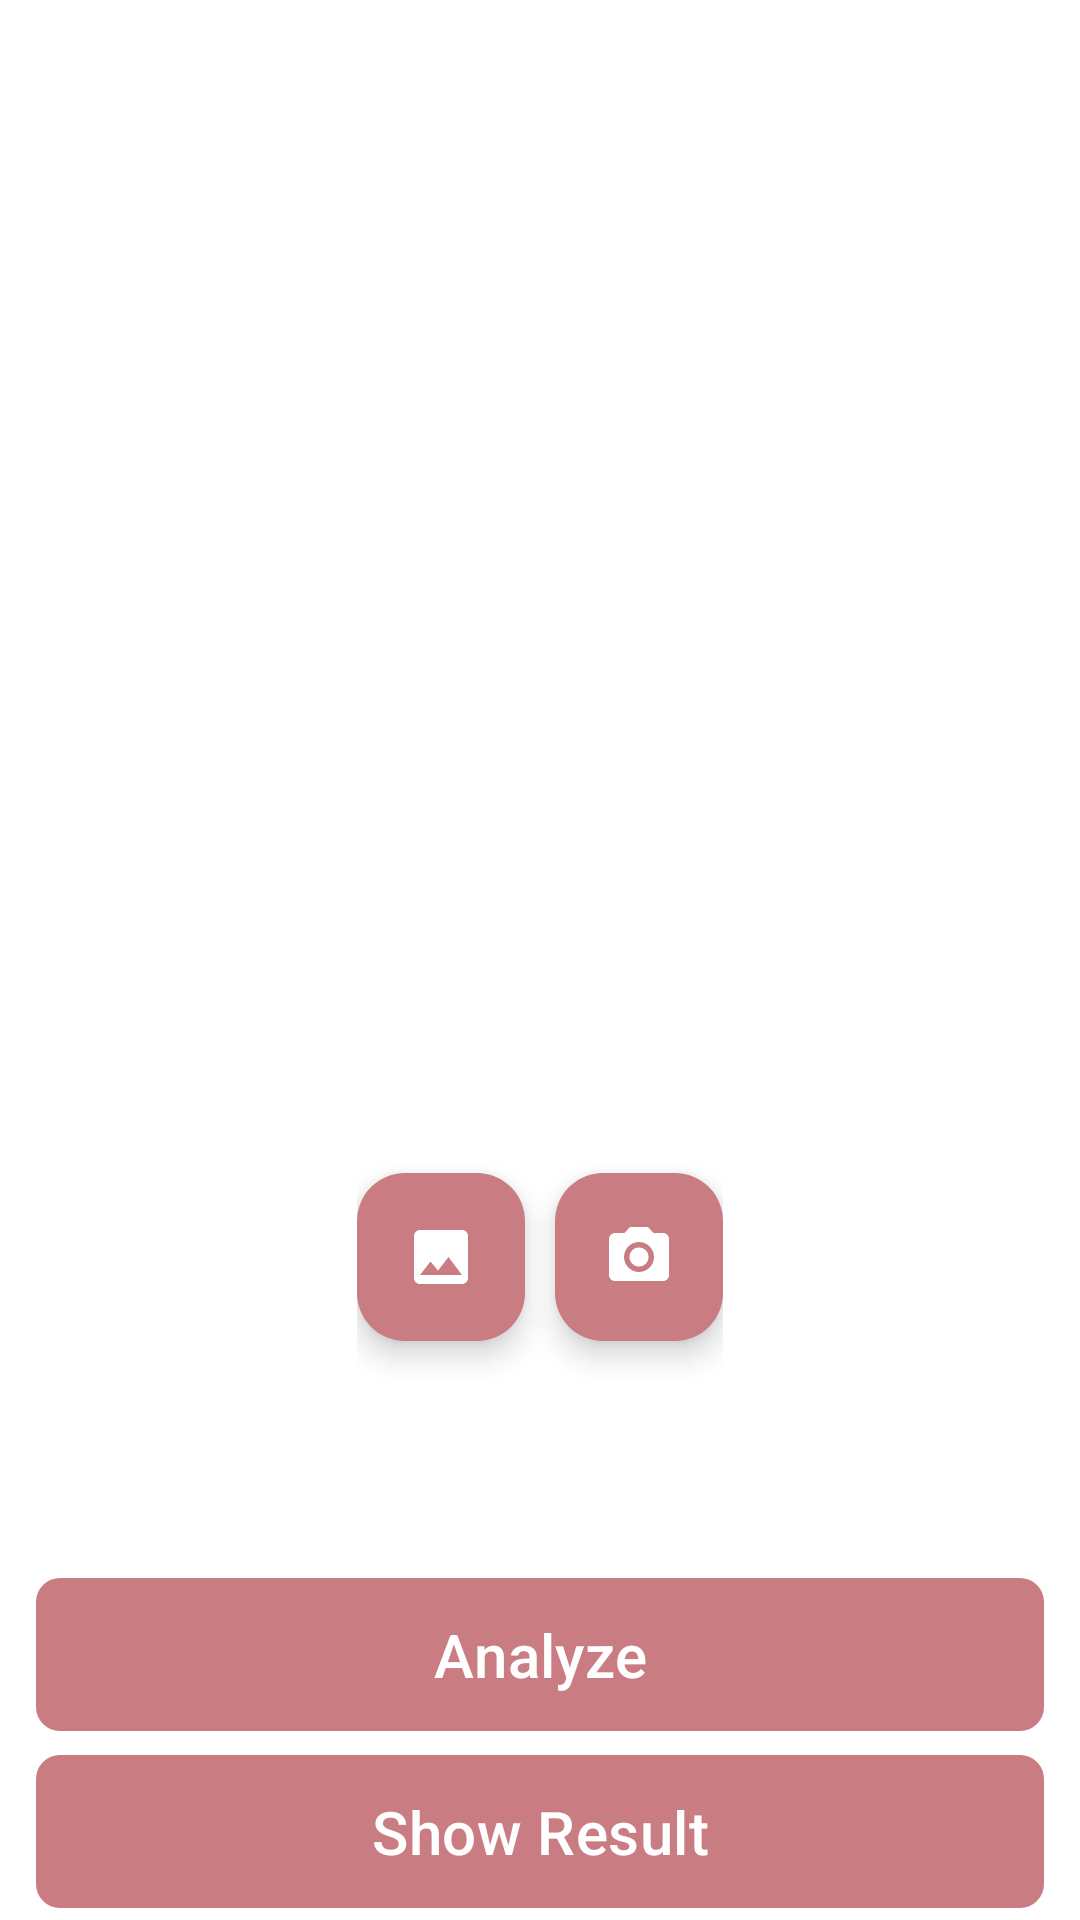

Where icons sit on this 1080w x 1920h app screen, as rect(x1, y1, x2, y2):
Camera: rect(555, 1173, 723, 1341)
gallery: rect(357, 1173, 525, 1341)
